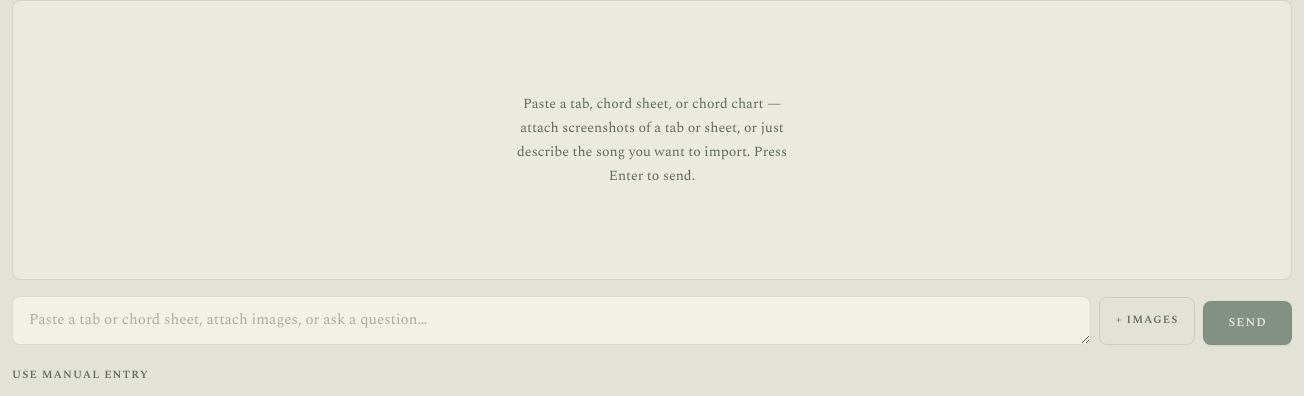
Test: ImportForm › renders a non-JSON response as plain text with no result card
Replace the text in the text box named "message" with "some tab text". click: (551, 320)
box: [12,296,1091,344]
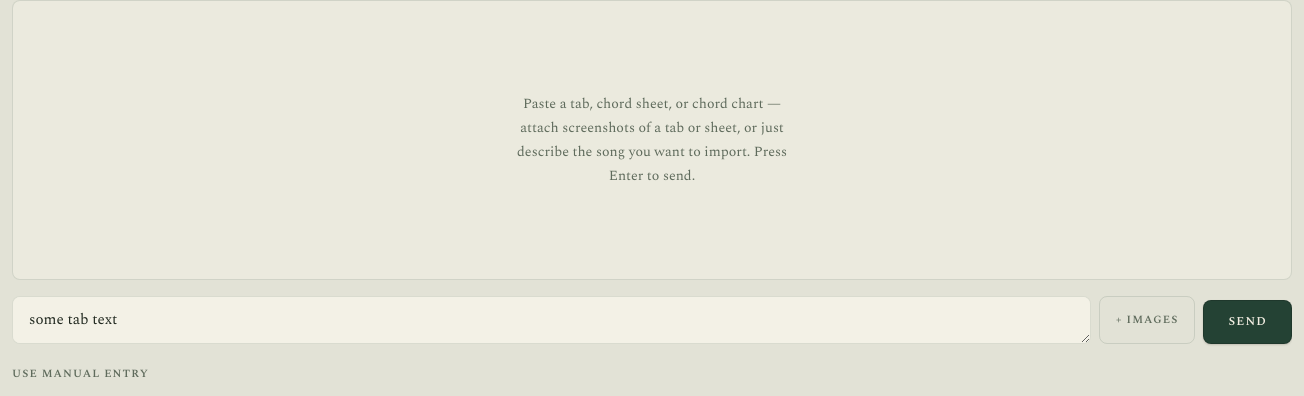
Click the button "Send". click: (1248, 322)
box: [1203,300,1292,344]
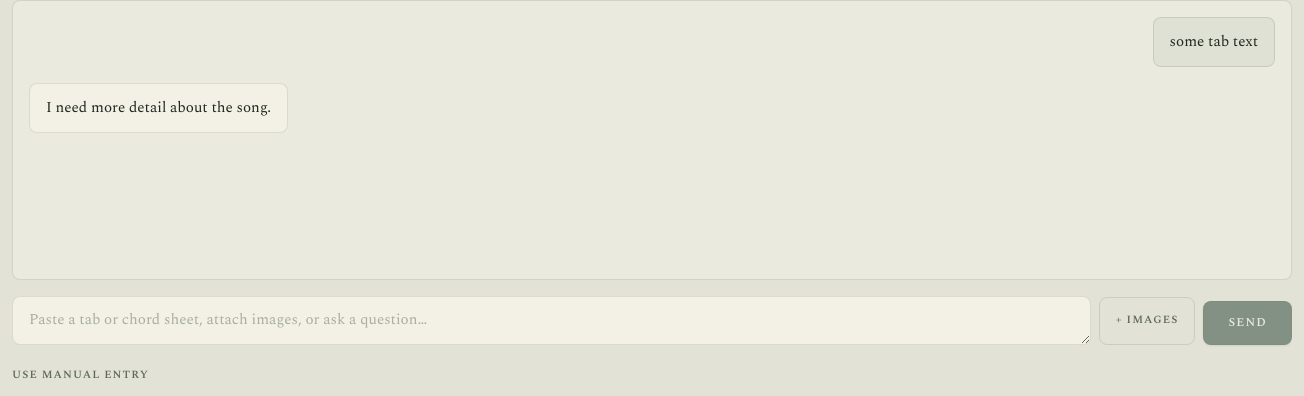
Result: the text "I need more detail about the song." is shown at [29,83,288,133]
